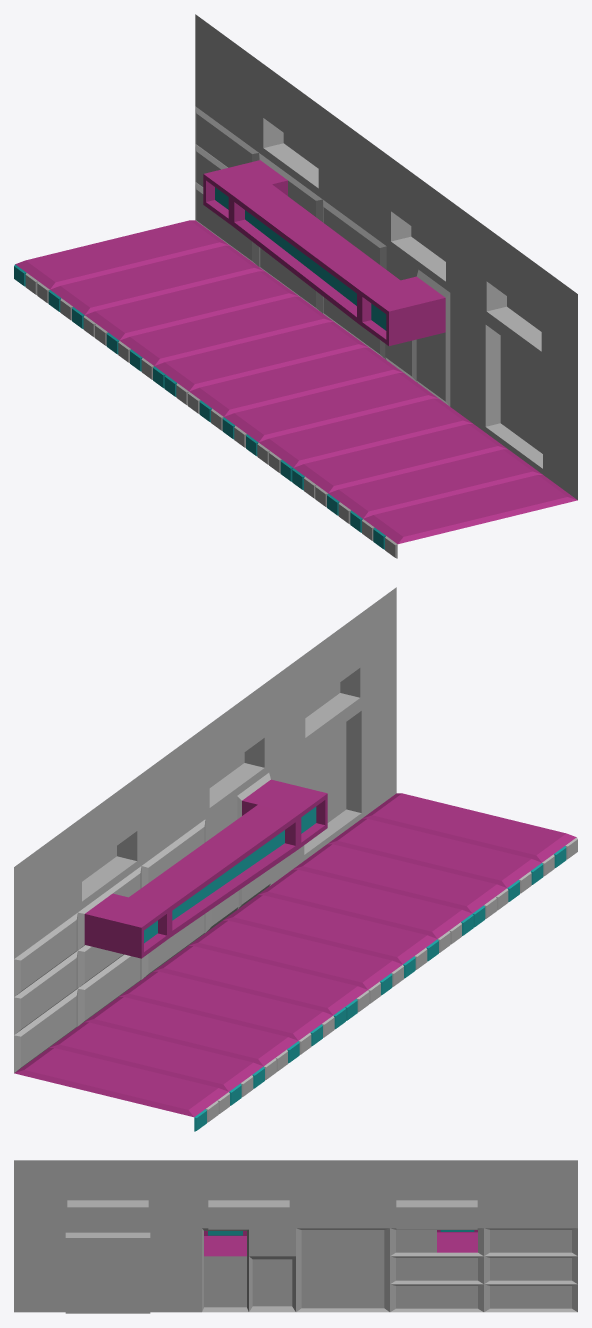
File: road1.fbx
3 views of the same model, one above another, from view 1: azimuth 30°, elevation 25°; view 2: azimuth 150°, elevation 25°; view 3: azimuth 270°, elevation 25° (orthographic). The views are drawn at different scales.
Visible parts, largest first — view 1: road.002; view 2: road.002; view 3: road.002.
Part boxes in pixels (bbox=[...]): road.002: bbox=[14, 14, 577, 558]; road.002: bbox=[14, 587, 577, 1131]; road.002: bbox=[14, 1160, 577, 1313].
Bounding box in the file's own units: 742 × 773 × 2429.
